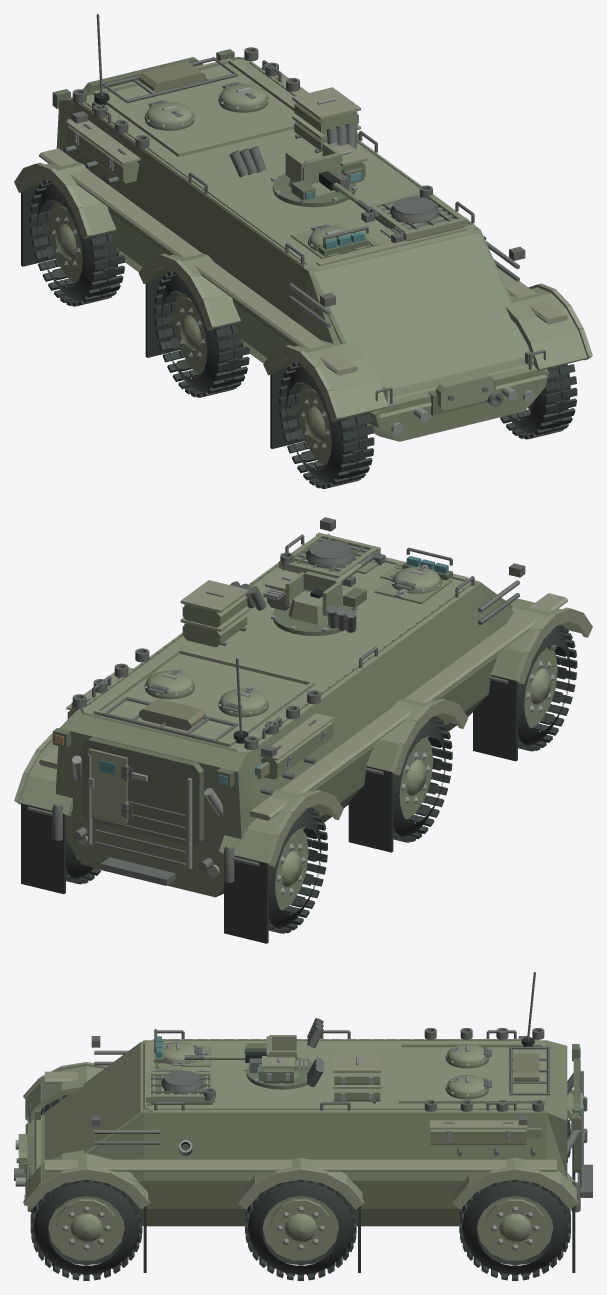
The model's file is spheres-ground-apc.glb.
3 renders of one model, top to bottom at view 1: azimuth 30°, elevation 25°; view 2: azimuth 150°, elevation 25°; view 3: azimuth 270°, elevation 25°, orthographic. The views are drawn at different scales.
Visible parts, largest first — view 1: Spheres armored personnel carrier; view 2: Spheres armored personnel carrier; view 3: Spheres armored personnel carrier.
Boxes of the visible parts, box(x1,y1,x2,y2) form: Spheres armored personnel carrier: box(14, 14, 592, 488); Spheres armored personnel carrier: box(14, 517, 592, 943); Spheres armored personnel carrier: box(14, 972, 592, 1280).
Bounding box in the file's own units: 2.98 × 2.97 × 6.78.
